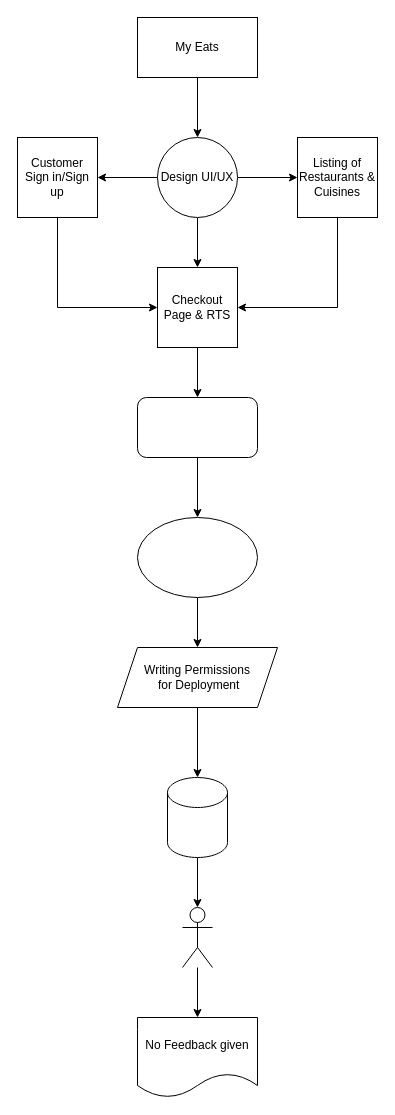
The diagram is 395 pixels wide and 1115 high, and some of its shapes have lost their labels. Each missing label, with the box of its shape:
Actor: (182, 906, 212, 968)
Compiling code into Apik: (136, 396, 258, 458)
Deploy: (166, 776, 228, 858)
No Bugs Found: (136, 516, 258, 598)
